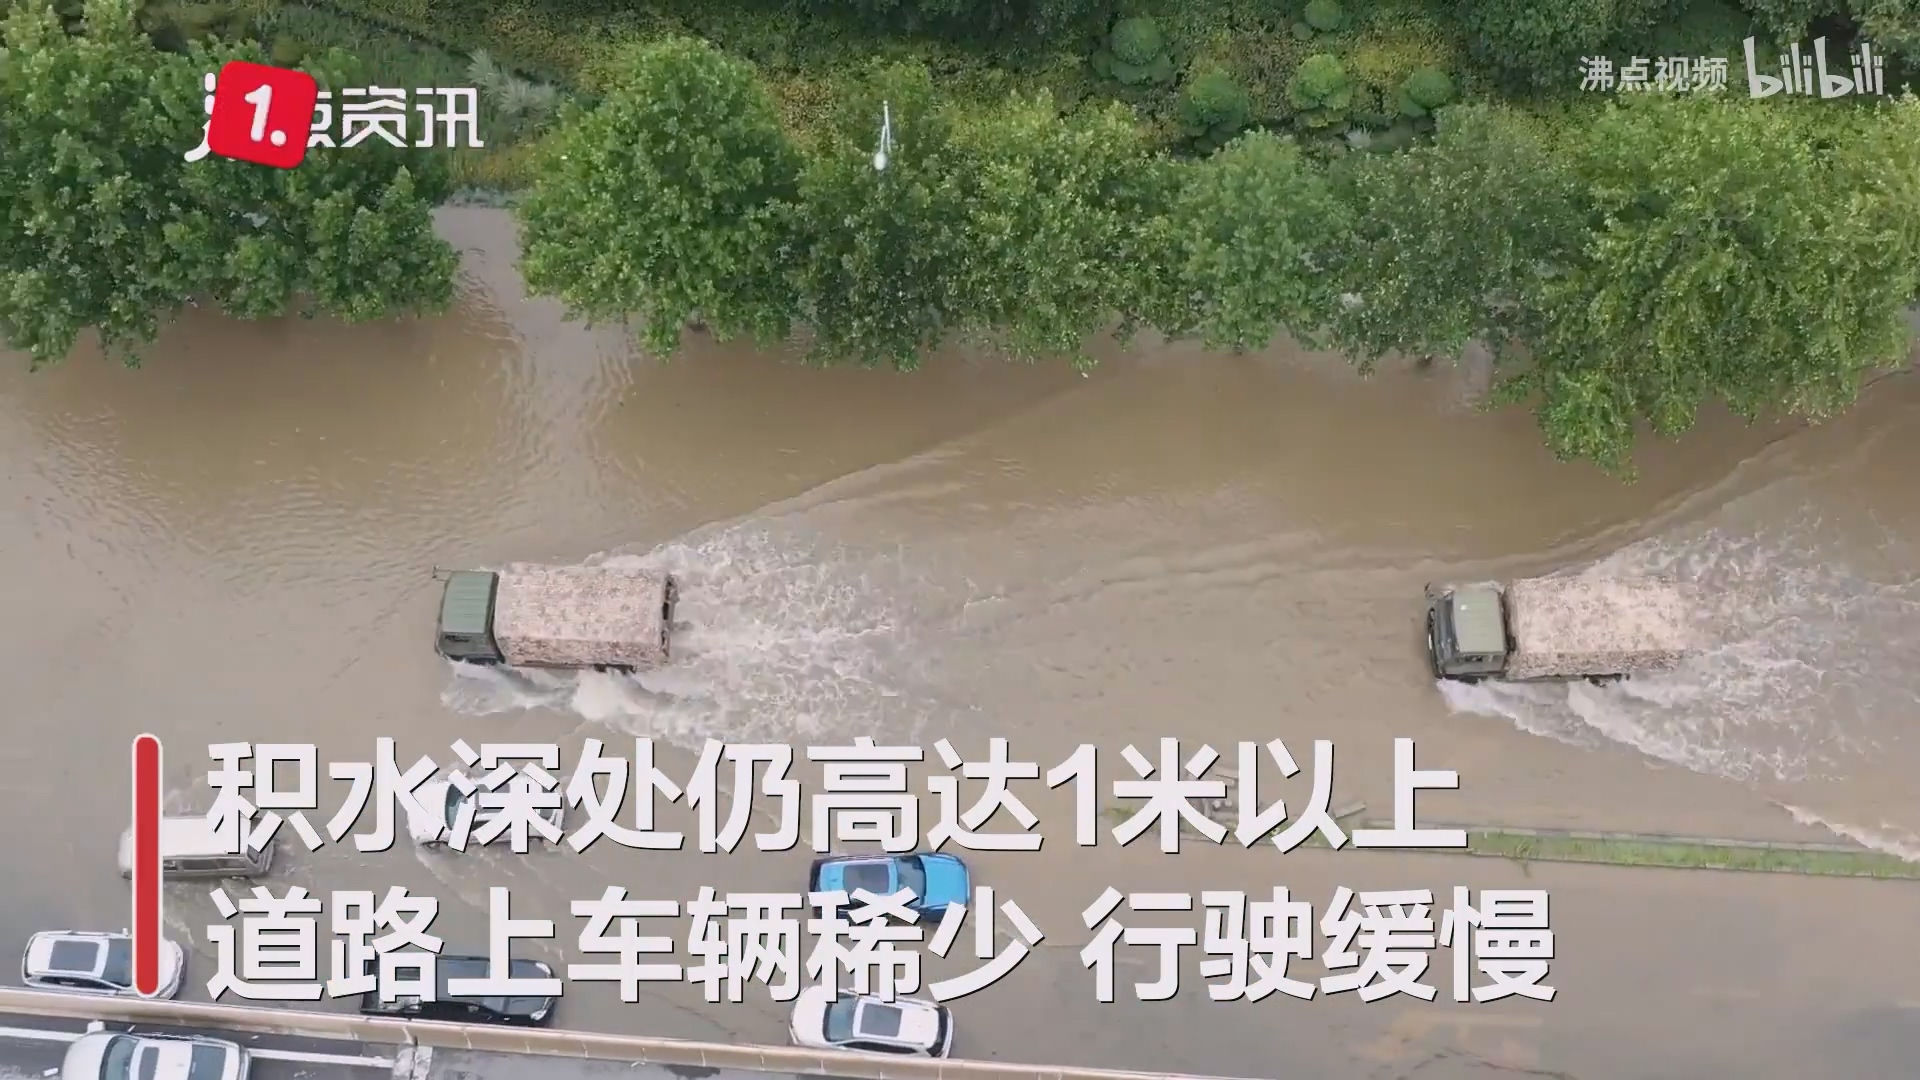puddle: (24, 305, 1880, 740)
